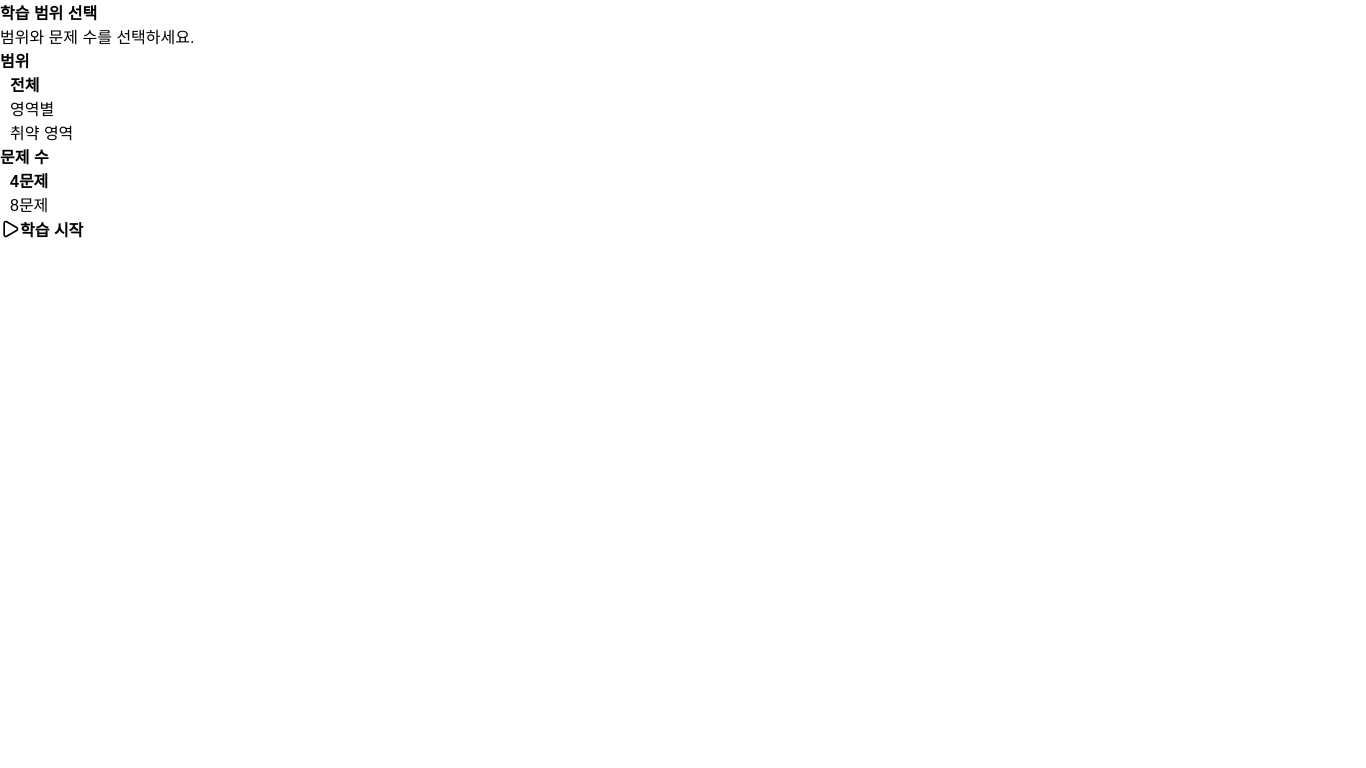
#223 포기 확인 — 취소/Escape (AC2) › Escape 시 포기 요청 없이 풀이로 복귀하고 트리거에 포커스가 복원된다
This screenshot has width=1366, height=768.
Click the button "학습 시작": (42, 229) [0,216,83,242]
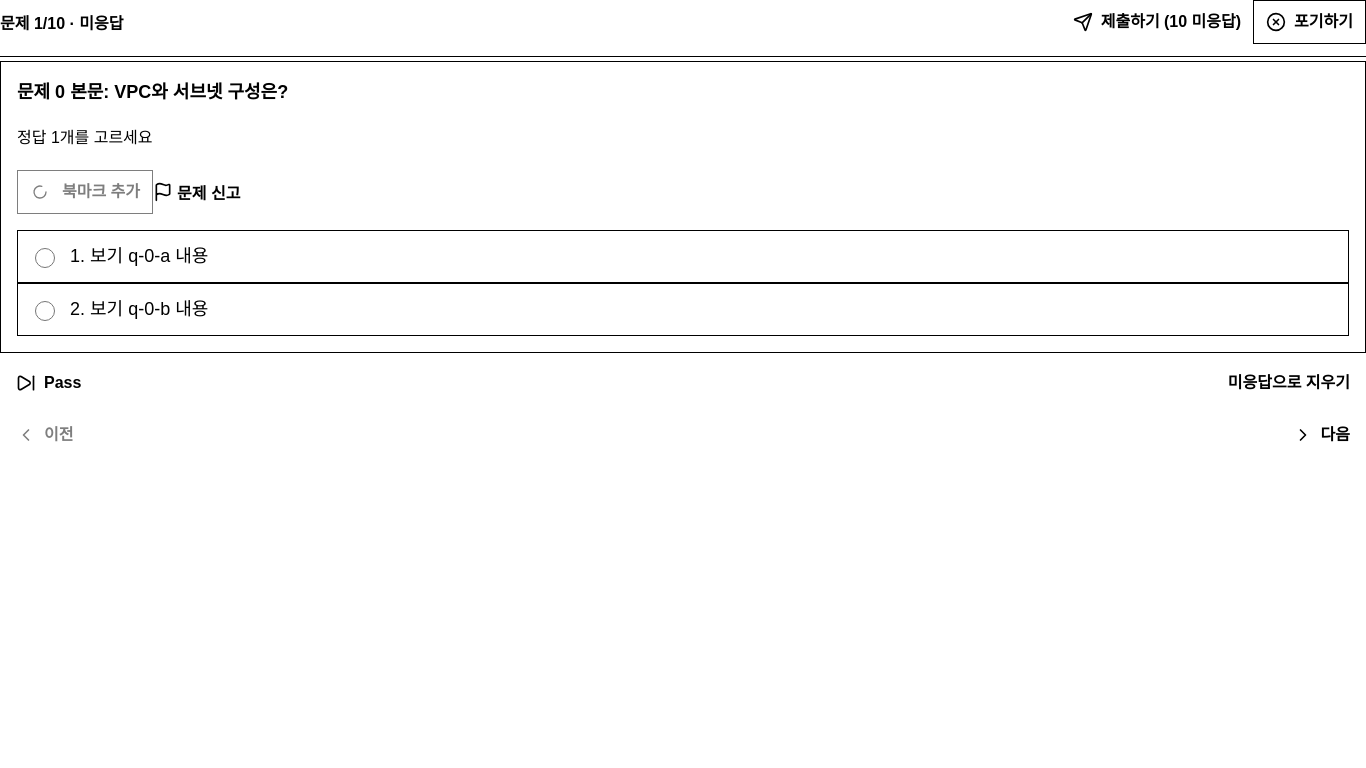
expect the text "문제 1/10 · 미응답" is shown: met, box [0,10,124,34]
Click the button "포기하기": (1310, 22) [1253,0,1365,44]
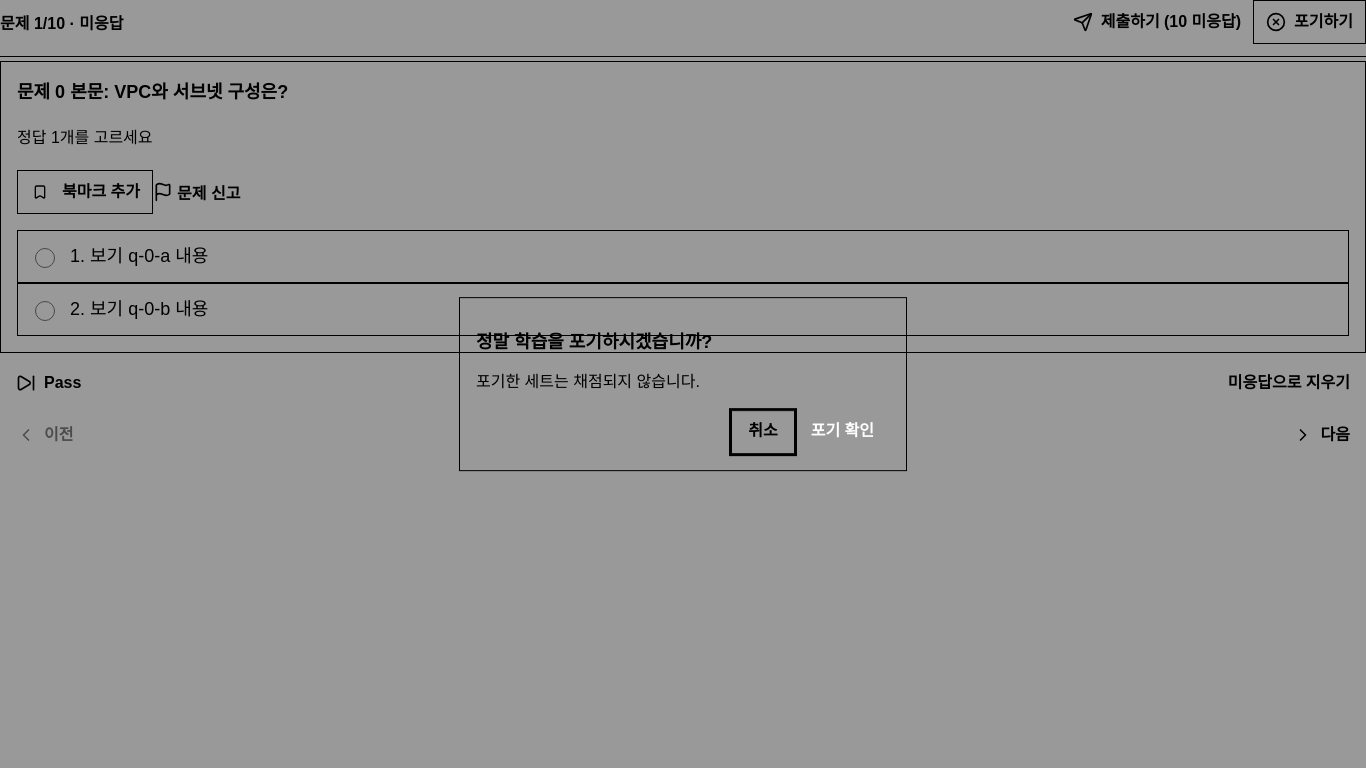
Press Escape
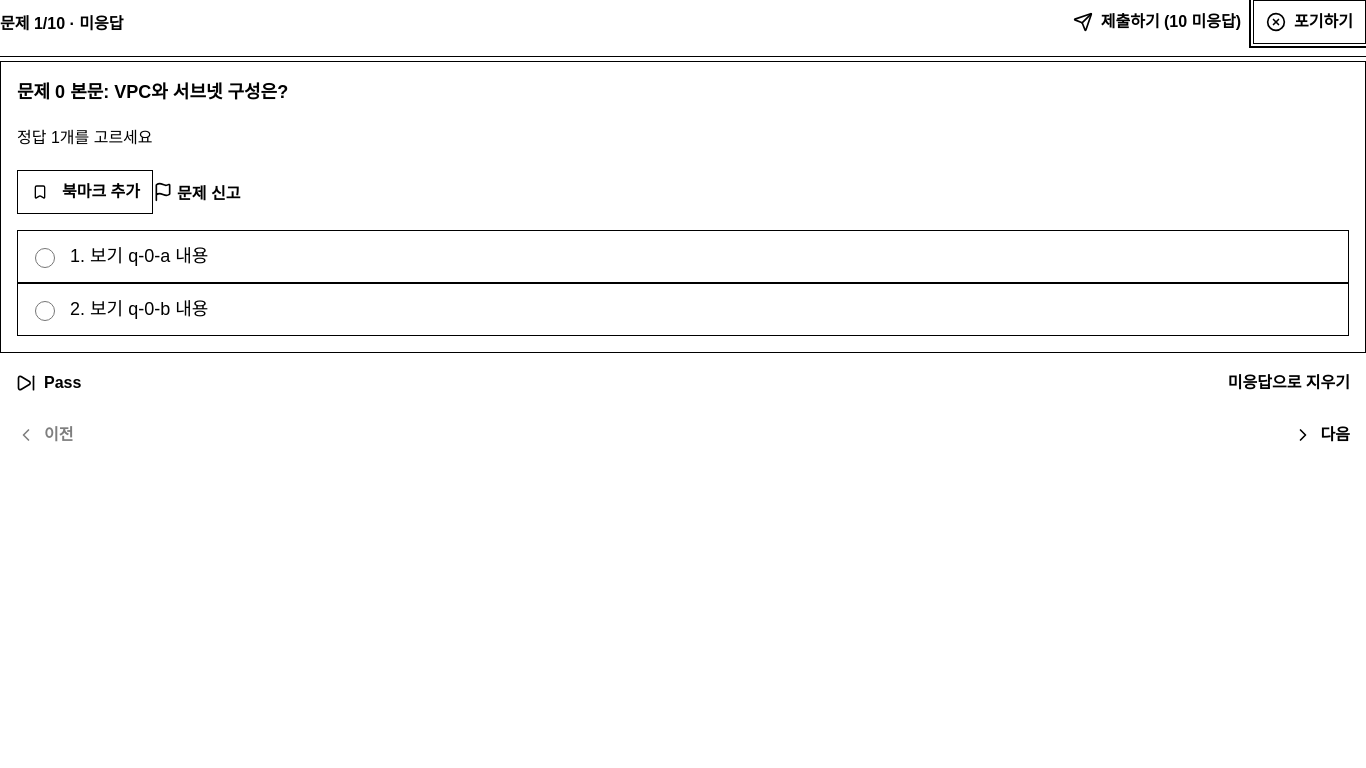
expect the text "문제 1/10 · 미응답" is shown: met, box [0,10,124,34]
expect the dialog is gone: met
